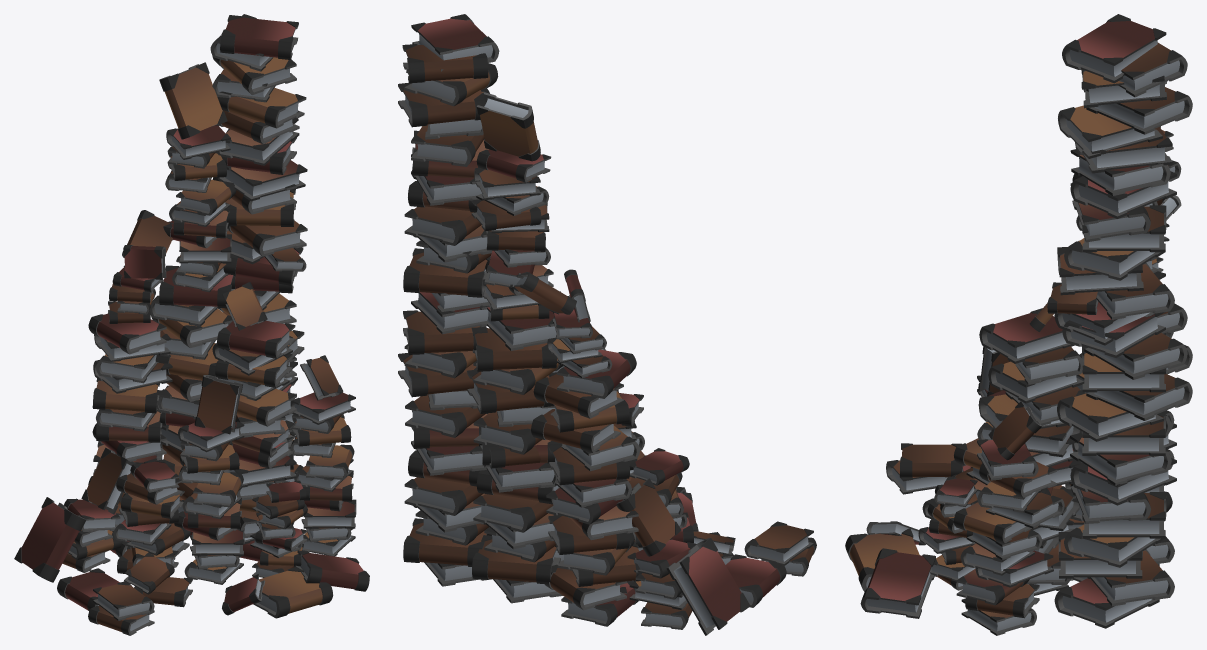
File: BookPiles.fbx
3 views of the same model, side by side, from view 1: azimuth 30°, elevation 25°; view 2: azimuth 150°, elevation 25°; view 3: azimuth 270°, elevation 25° (orthographic). The views are drawn at different scales.
Visible parts, largest first — view 1: polySurface166; view 2: polySurface166; view 3: polySurface166.
Boxes of the visible parts, x1,y1,x2,y2 form: polySurface166: (14, 14, 369, 635); polySurface166: (398, 14, 816, 635); polySurface166: (845, 14, 1192, 635).
Bounding box in the file's own units: 9.67 × 15.59 × 8.45.
